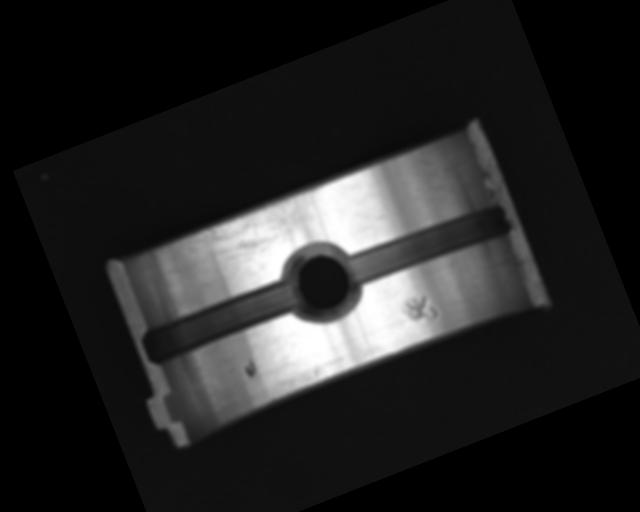blot: (241, 358, 257, 379)
bruise: (399, 291, 440, 329)
gap: (343, 195, 516, 296), (137, 274, 303, 369)
hole: (273, 232, 371, 333)
scratch: (178, 183, 339, 283)
